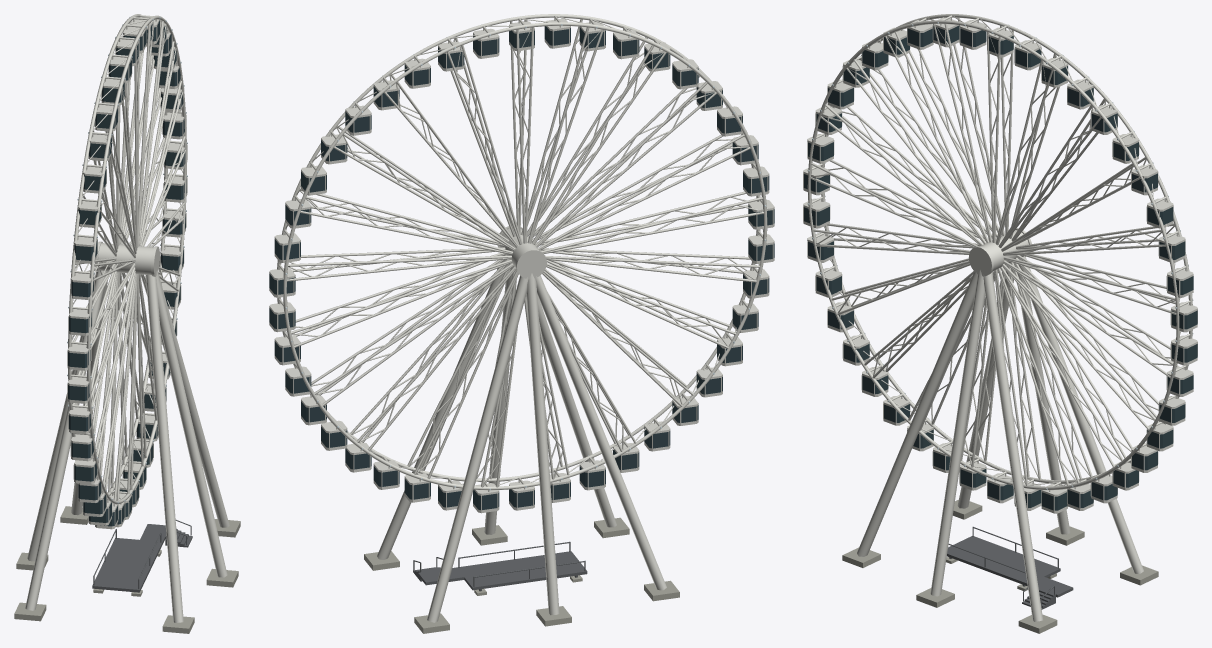
The model's file is skyview-atlanta-near.glb.
3 renders of one model, left to right at view 1: azimuth 30°, elevation 25°; view 2: azimuth 150°, elevation 25°; view 3: azimuth 270°, elevation 25°, orthographic. The views are drawn at different scales.
Visible parts, largest first — view 1: skyview-atlanta-0-lattice, skyview-atlanta-0-glass, skyview-atlanta-0-iron, skyview-atlanta-0-concrete; view 2: skyview-atlanta-0-lattice, skyview-atlanta-0-glass, skyview-atlanta-0-iron, skyview-atlanta-0-concrete; view 3: skyview-atlanta-0-lattice, skyview-atlanta-0-glass, skyview-atlanta-0-iron, skyview-atlanta-0-concrete.
Boxes of the visible parts, box(x1,y1,x2,y2) form: skyview-atlanta-0-lattice: box(25, 14, 229, 622); skyview-atlanta-0-glass: box(68, 20, 186, 526); skyview-atlanta-0-iron: box(92, 519, 192, 592); skyview-atlanta-0-concrete: box(14, 506, 240, 633); skyview-atlanta-0-lattice: box(269, 14, 774, 622); skyview-atlanta-0-glass: box(269, 26, 774, 509); skyview-atlanta-0-iron: box(413, 541, 587, 591); skyview-atlanta-0-concrete: box(364, 517, 679, 633); skyview-atlanta-0-lattice: box(803, 14, 1197, 621); skyview-atlanta-0-glass: box(804, 25, 1197, 510); skyview-atlanta-0-iron: box(947, 526, 1073, 609); skyview-atlanta-0-concrete: box(842, 500, 1158, 633).
Bounding box in the file's own units: 35.92 × 60.96 × 40.31.
